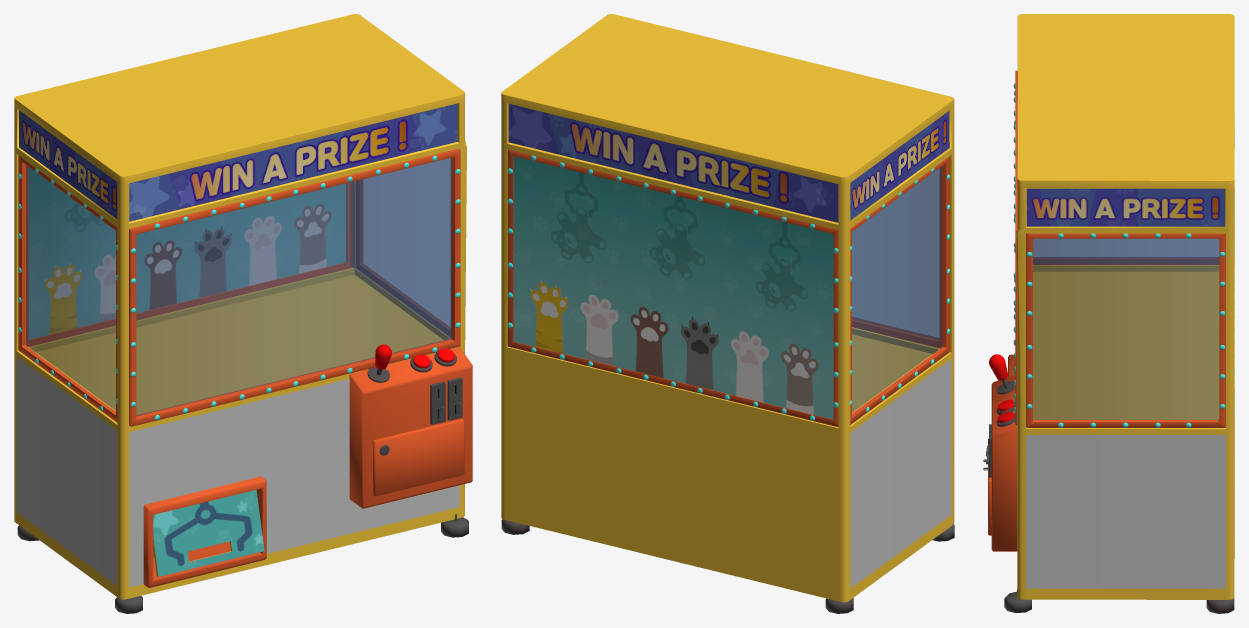
Rendered from Claw_machine_set.FBX.
3 renders of one model, left to right at view 1: azimuth 30°, elevation 25°; view 2: azimuth 150°, elevation 25°; view 3: azimuth 270°, elevation 25°, orthographic.
Parts seen in each view (by area): view 1: claw_machine_body_01, claw_machine_glass_01, claw_machine_body_02; view 2: claw_machine_body_01, claw_machine_glass_01; view 3: claw_machine_body_01, claw_machine_glass_01, claw_machine_body_02, claw_machine_joystick.
Boxes of the visible parts, x1,y1,x2,y2 form: claw_machine_body_01: (14, 14, 468, 613); claw_machine_glass_01: (26, 158, 451, 415); claw_machine_body_02: (349, 347, 472, 508); claw_machine_body_01: (501, 14, 954, 613); claw_machine_glass_01: (852, 166, 942, 412); claw_machine_body_01: (1004, 14, 1234, 613); claw_machine_glass_01: (1033, 238, 1219, 419); claw_machine_body_02: (983, 375, 1017, 551); claw_machine_joystick: (989, 354, 1008, 388).
Bounding box in the file's own units: 1546 × 1846 × 974.
